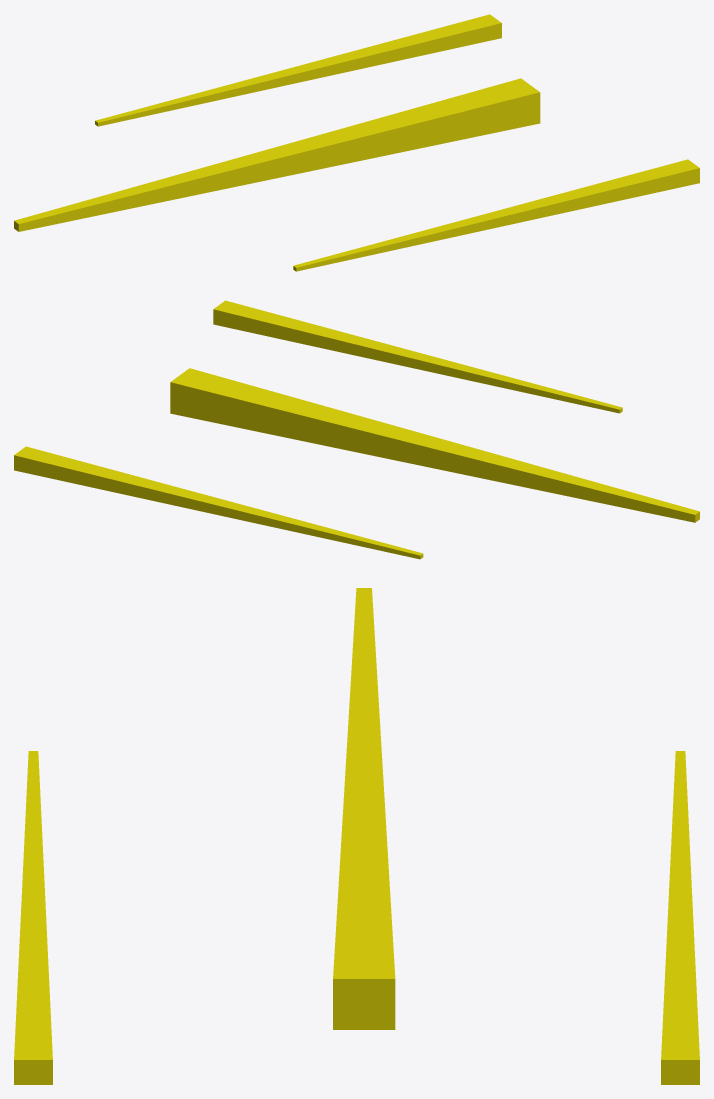
Rendered from Enemy_Updated_02_Thrusters.fbx.
The picture shows the model from 3 angles, top to bottom: view 1: azimuth 30°, elevation 25°; view 2: azimuth 150°, elevation 25°; view 3: azimuth 270°, elevation 25°; orthographic projection. The views are drawn at different scales.
Parts seen in each view (by area): view 1: polySurface37; view 2: polySurface37; view 3: polySurface37.
Part boxes in pixels (left/top/right/bottom): polySurface37: left=14, top=14, right=699, bottom=271; polySurface37: left=14, top=300, right=699, bottom=559; polySurface37: left=14, top=588, right=699, bottom=1084.
Size of the model in its own units: 16.21 by 0.9294 by 10.23.
